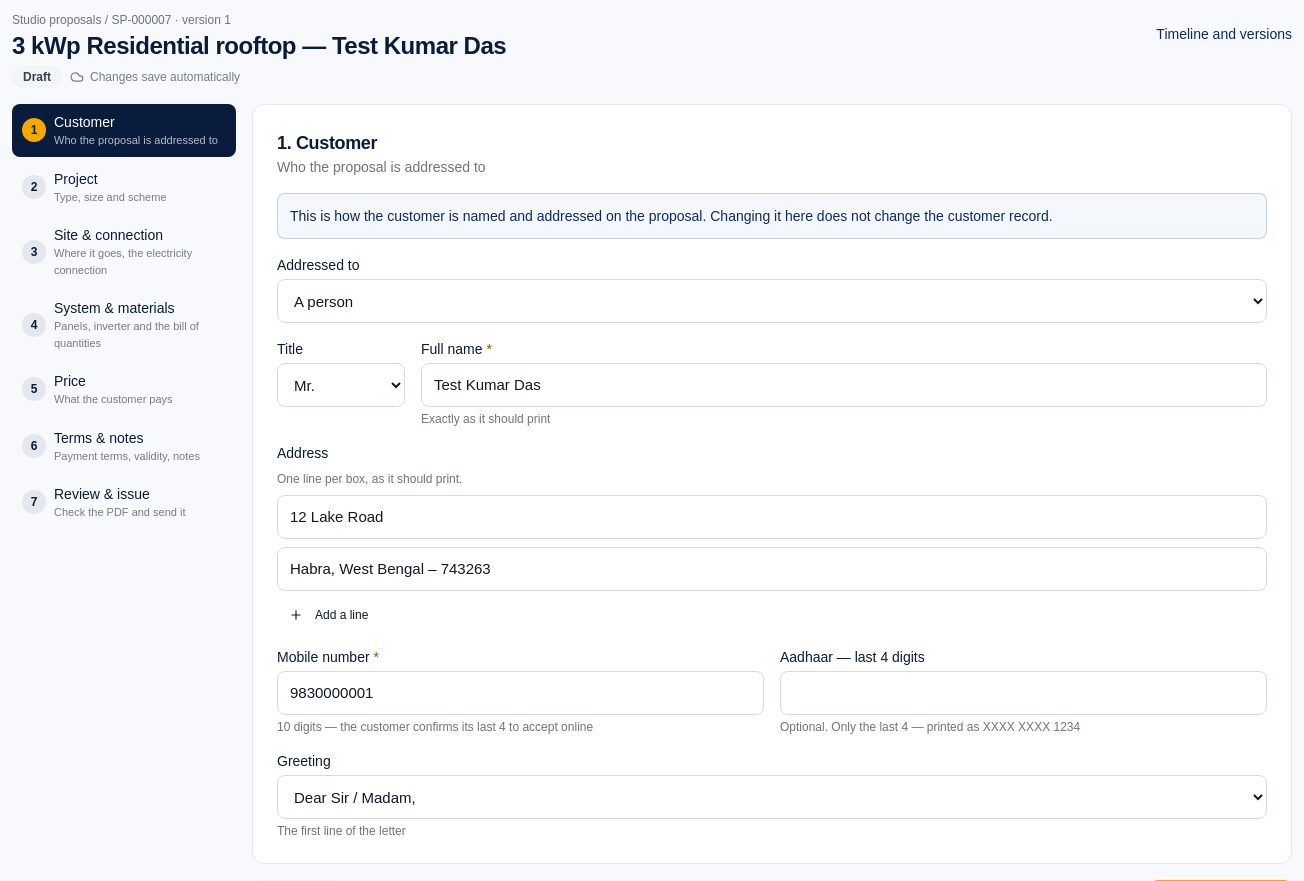
autosave › a refused value shows under its field and is not lost
Expected: the list with test id "wizard-steps" is shown, x1=12 y1=104 x2=236 y2=532
Replace the text in the field labelled "Mobile number*" with "98300" at (520, 693), box x1=277 y1=671 x2=764 y2=715
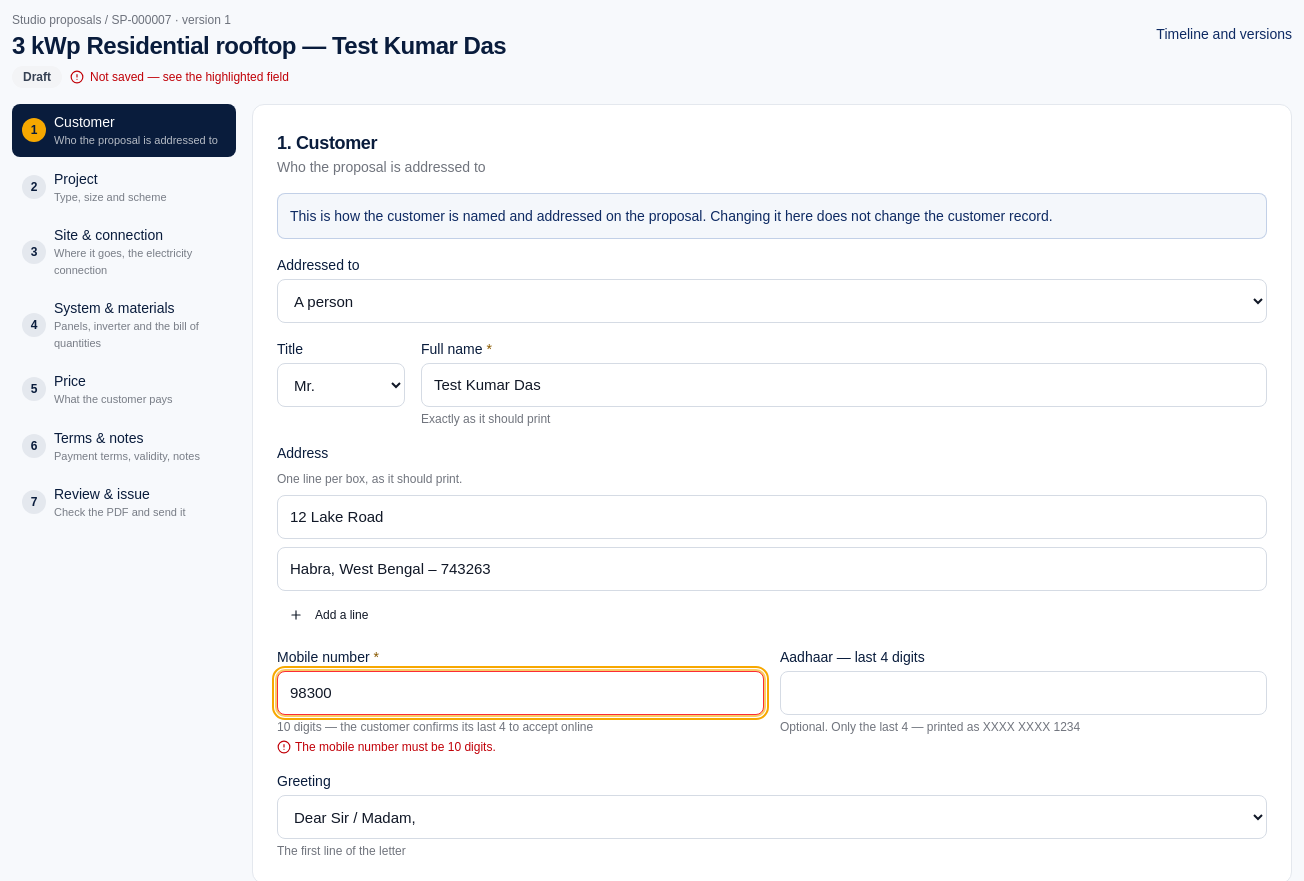
Expected: the text "The mobile number must be 10 digits." is shown, x1=277 y1=740 x2=496 y2=754
